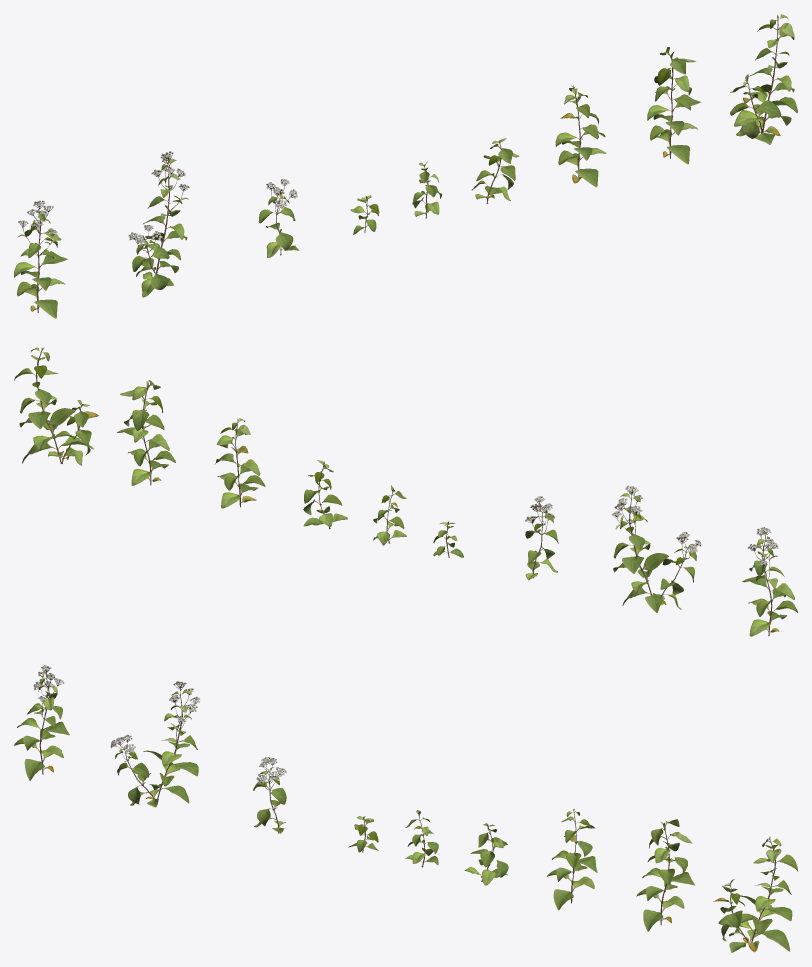
The model's file is shrub_01.gltf.
3 views of the same model, one above another, from view 1: azimuth 30°, elevation 25°; view 2: azimuth 150°, elevation 25°; view 3: azimuth 330°, elevation 25° (orthographic). The views are drawn at different scales.
Visible parts, largest first — view 1: shrub_01_a; view 2: shrub_01_a; view 3: shrub_01_a.
Boxes of the visible parts, x1,y1,x2,y2 form: shrub_01_a: (14, 14, 797, 318); shrub_01_a: (14, 347, 797, 636); shrub_01_a: (14, 665, 797, 952).
Bounding box in the file's own units: 2.59 × 0.396 × 0.2185.
Materials: 1 (1 with a texture image).
